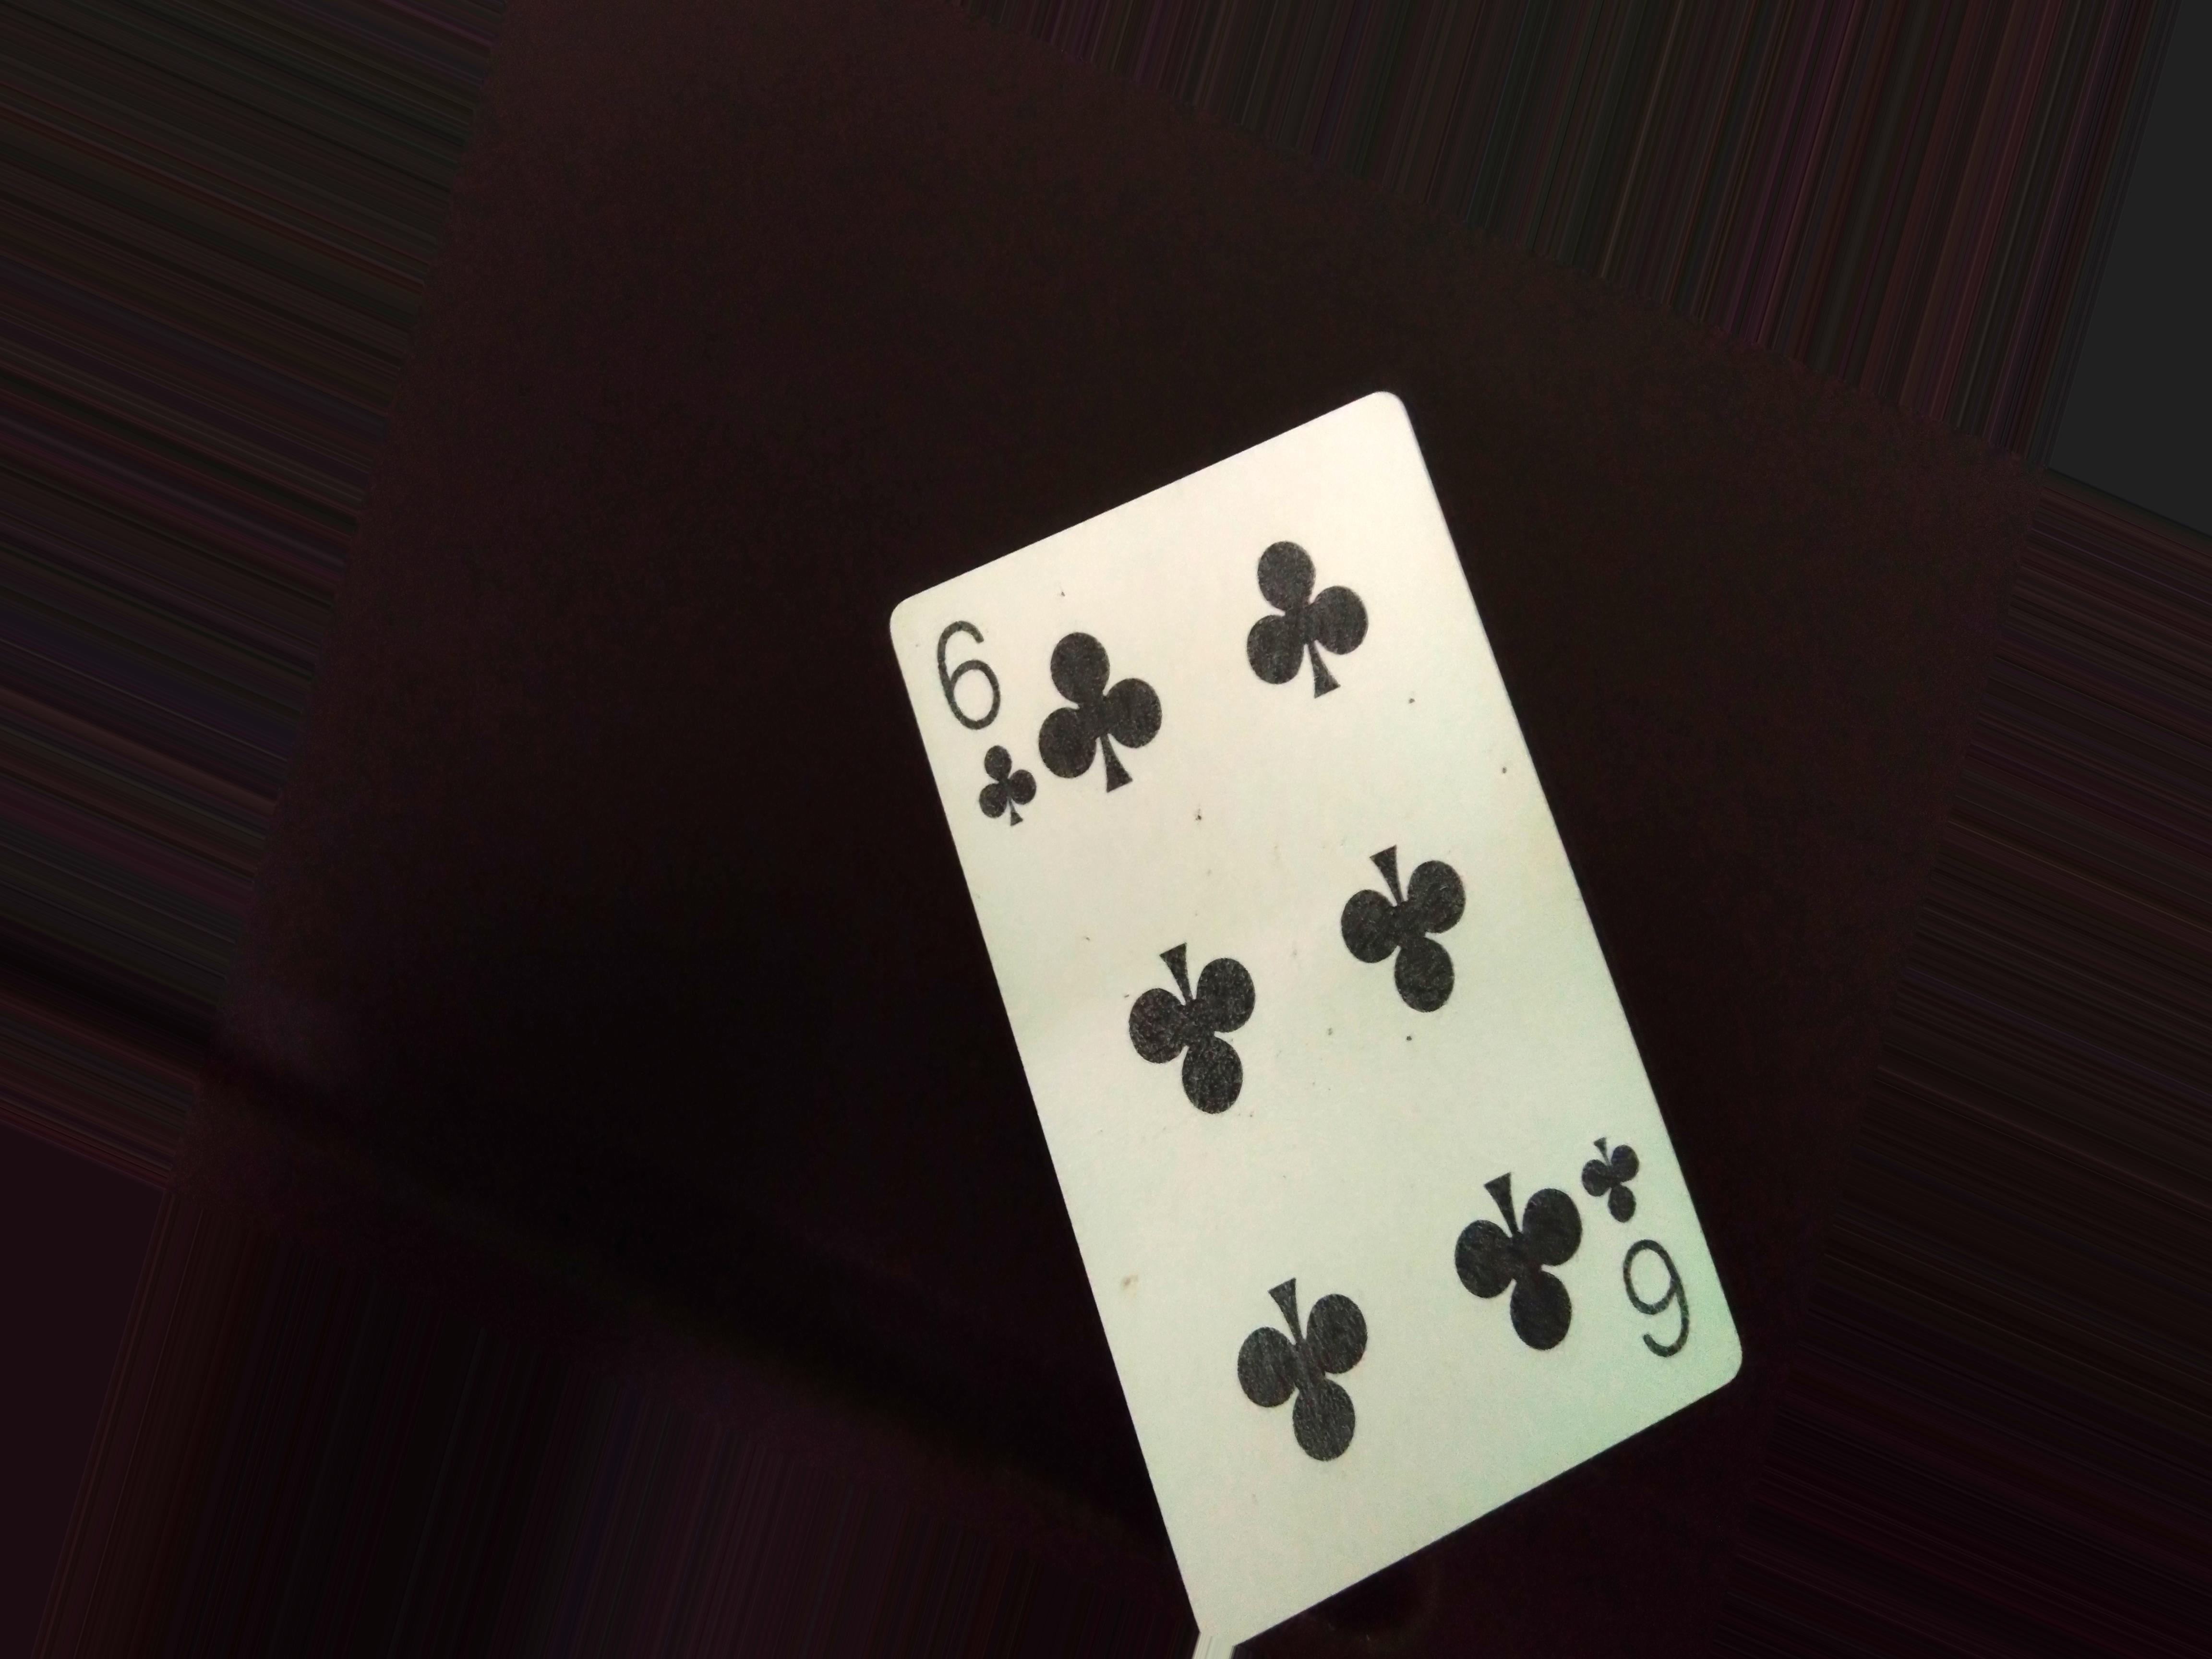6C: (934, 608, 1040, 856)
